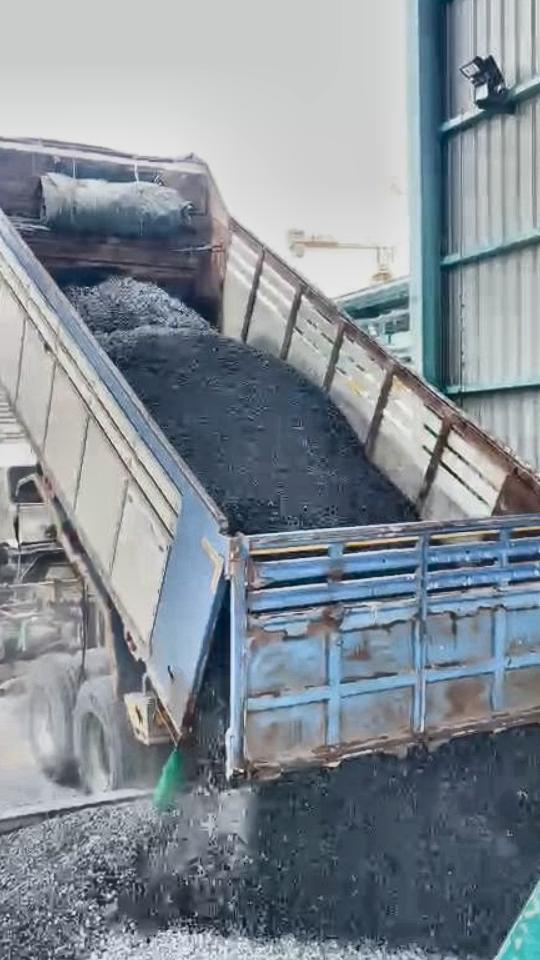gravel: (0, 730, 540, 960), (67, 276, 414, 532)
